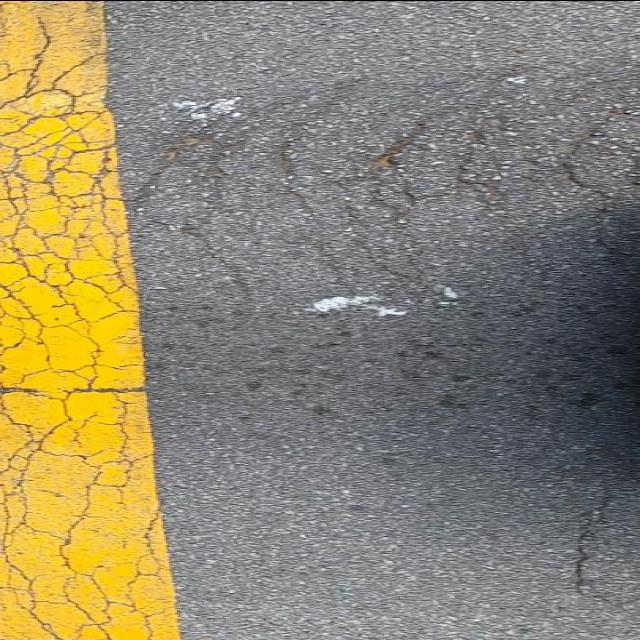cracks: (0, 1, 180, 640), (174, 112, 640, 258)
